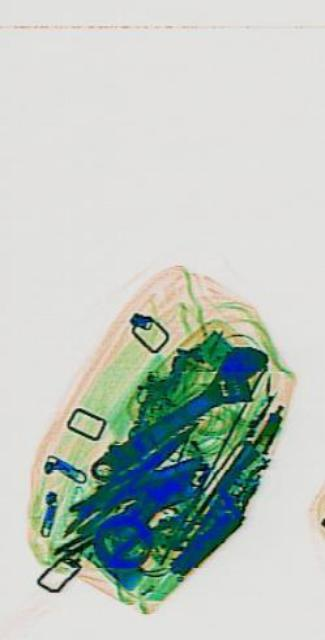Wrench: (83, 324, 272, 502)
